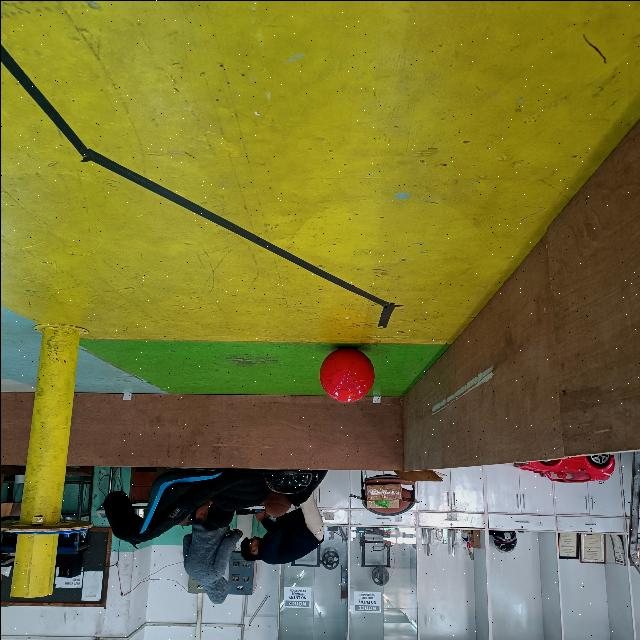R: (317, 343, 375, 402)
